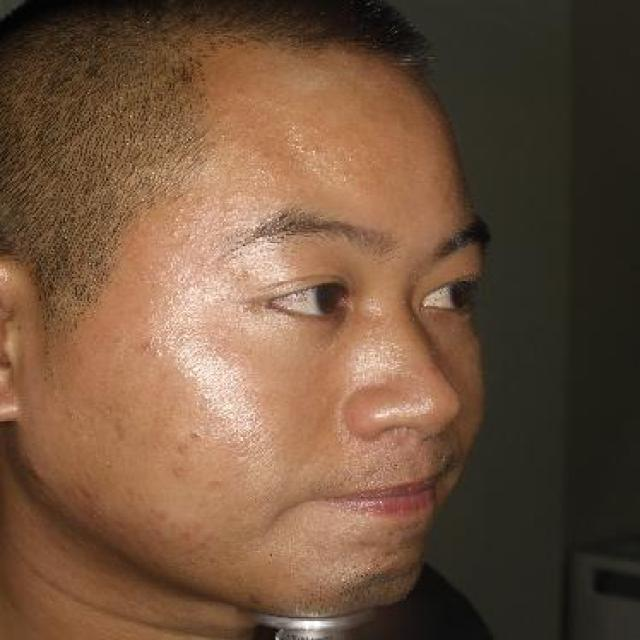blackheads: (135, 326, 164, 363), (190, 423, 205, 448)
dark spot: (74, 482, 101, 508), (147, 502, 176, 526), (164, 465, 188, 480)
whiteheads: (24, 463, 50, 482), (306, 138, 320, 162), (193, 190, 207, 208), (185, 229, 198, 246), (171, 214, 183, 223)
